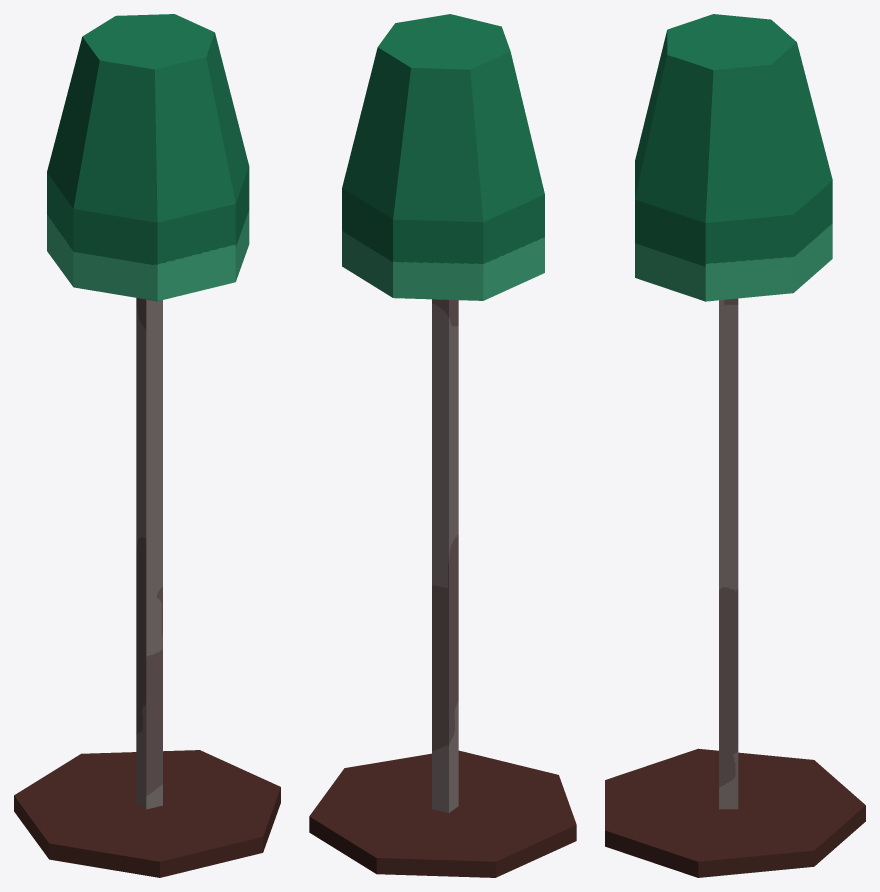
The model's file is standingLamp.obj.
3 views of the same model, side by side, from view 1: azimuth 30°, elevation 25°; view 2: azimuth 150°, elevation 25°; view 3: azimuth 270°, elevation 25° (orthographic).
Parts seen in each view (by area): view 1: Cylinder, Cylinder.001, Cube; view 2: Cylinder, Cylinder.001, Cube; view 3: Cylinder, Cylinder.001, Cube.
Part boxes in pixels (x1,y1,x2,y2): Cylinder: (47,14,249,301); Cylinder.001: (14,750,280,877); Cube: (136,298,162,809); Cylinder: (342,14,544,300); Cylinder.001: (309,750,576,877); Cube: (432,299,458,813); Cylinder: (635,14,832,301); Cylinder.001: (605,748,865,877); Cube: (719,298,738,809).
Size of the model in its own units: 1.95 by 6.27 by 1.9.
3 materials, 3 textured.
